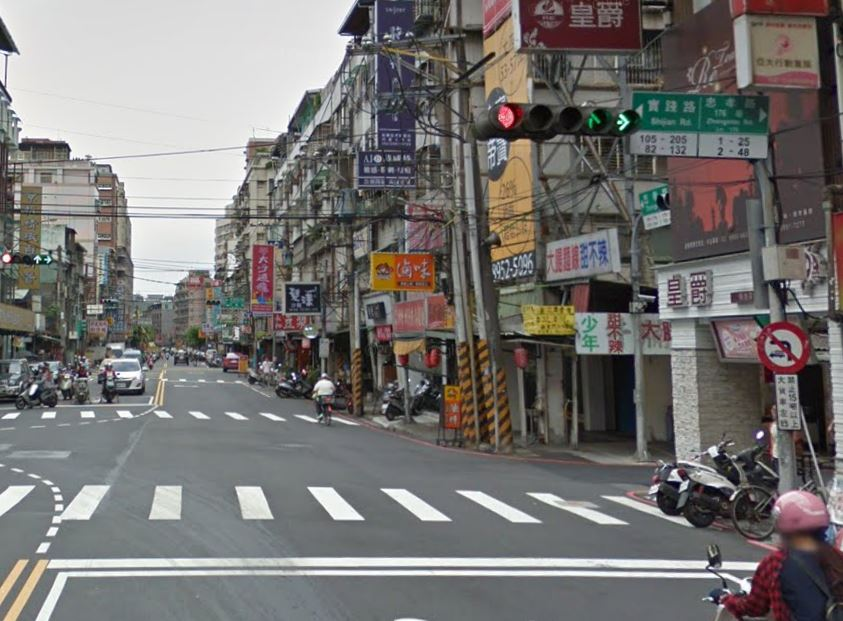Traffic_light_red: (479, 99, 584, 138)
